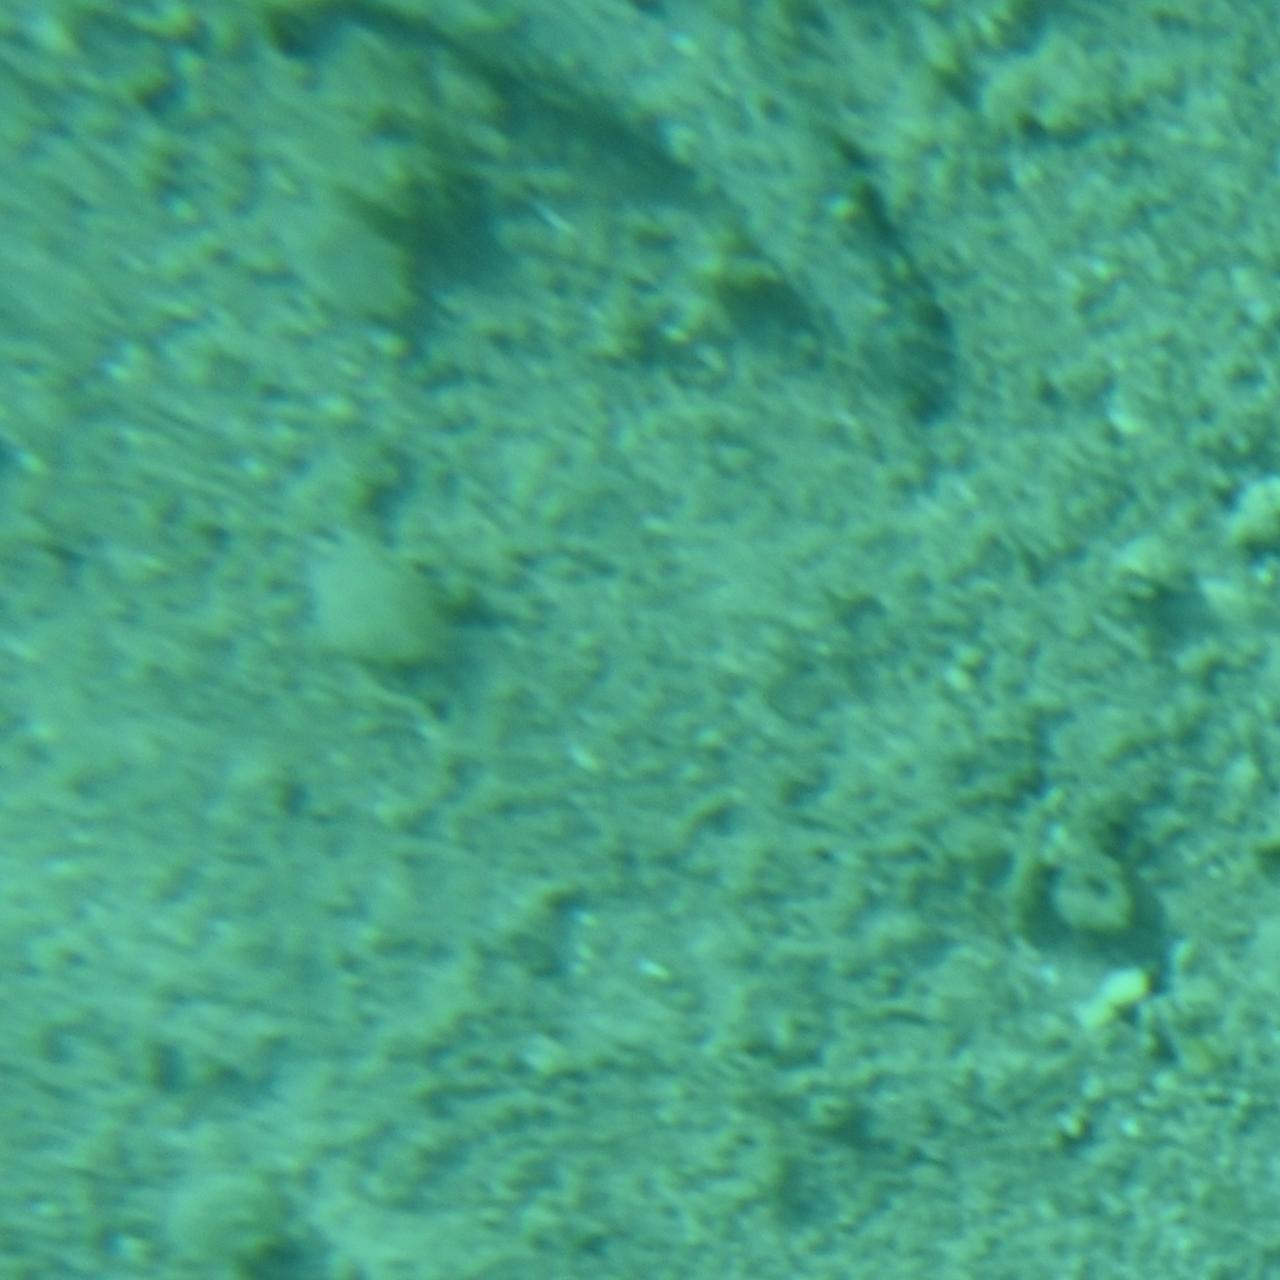Holothuria tubulosa: (307, 0, 973, 440)
